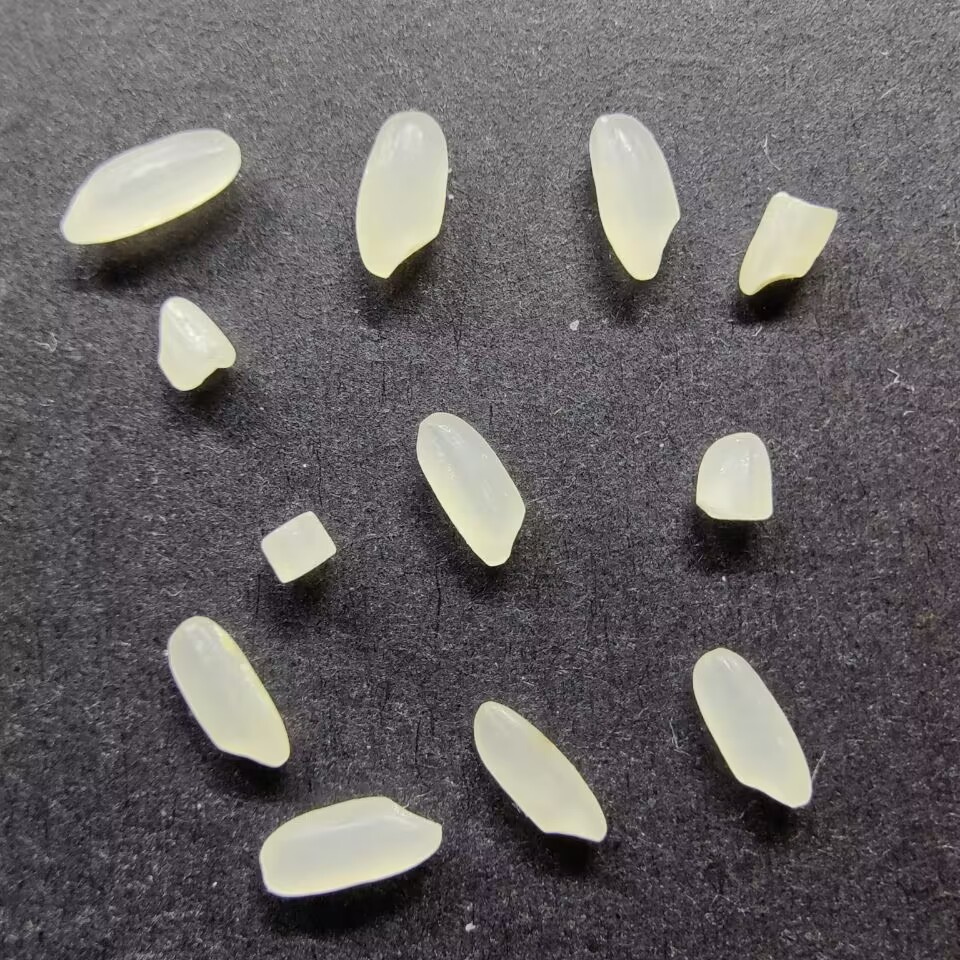broken: (737, 189, 840, 298), (154, 295, 238, 393), (694, 429, 775, 523), (257, 508, 340, 587)
rice: (59, 127, 242, 246), (471, 697, 609, 845), (165, 612, 292, 770), (692, 646, 813, 808), (258, 795, 443, 899), (415, 409, 528, 570), (353, 108, 451, 279), (589, 112, 681, 281)
